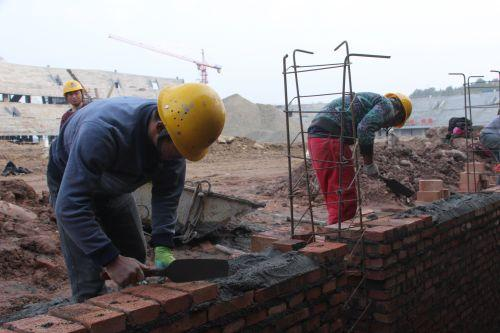helmet: (159, 83, 228, 161), (390, 91, 419, 130), (62, 80, 89, 96)
